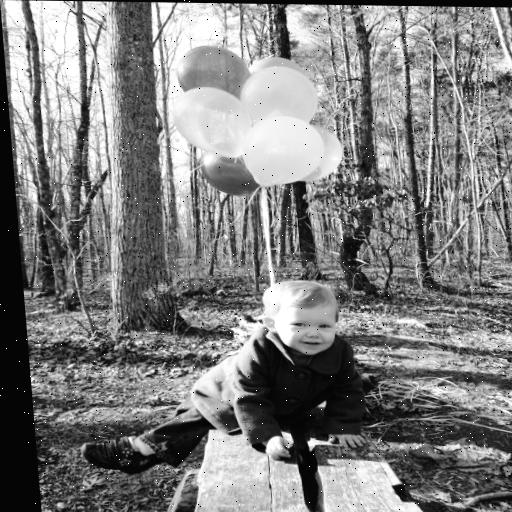balloon: (168, 89, 258, 157), (240, 119, 323, 190), (242, 64, 318, 124), (178, 46, 248, 99), (295, 125, 348, 180), (203, 152, 261, 198)
